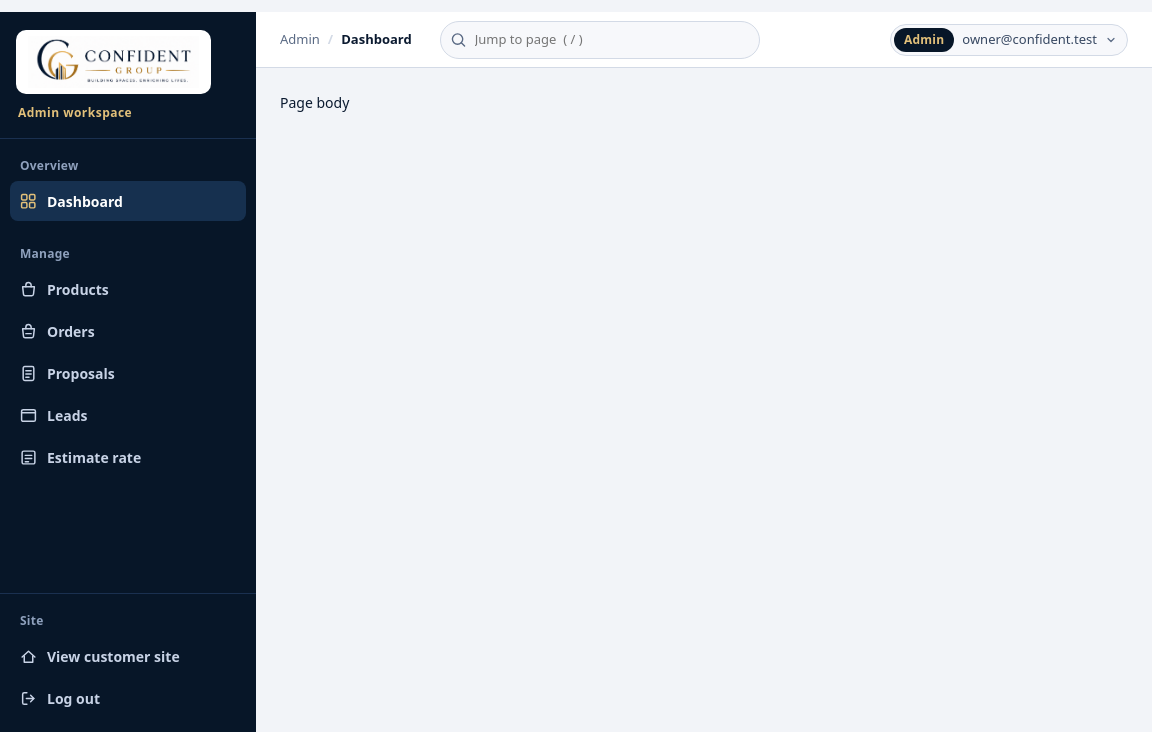
Scenario: AdminLayoutComponent › sidebar badges, user menu and jump search › closes the user menu on a click elsewhere
The image size is (1152, 732).
Click the button with class "admin-chip" at (1009, 40), box [890, 24, 1128, 56]
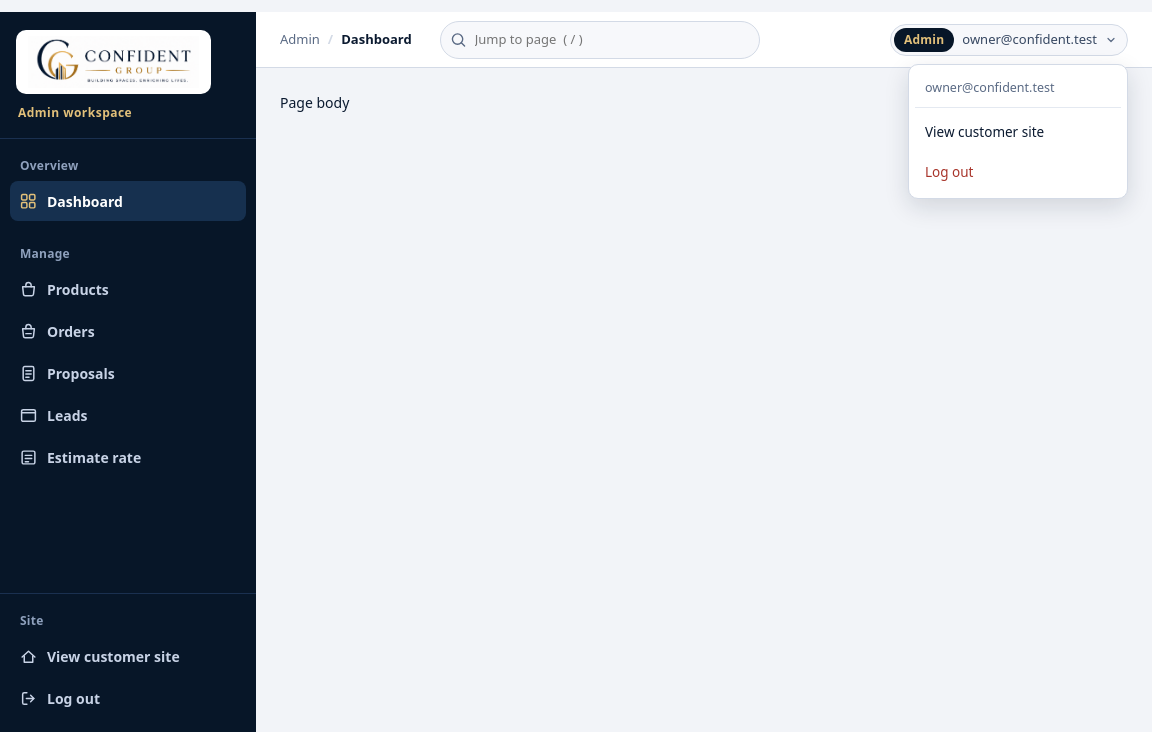
Click the element that starts with "Admin workspace" at (576, 372), box [0, 12, 1151, 731]
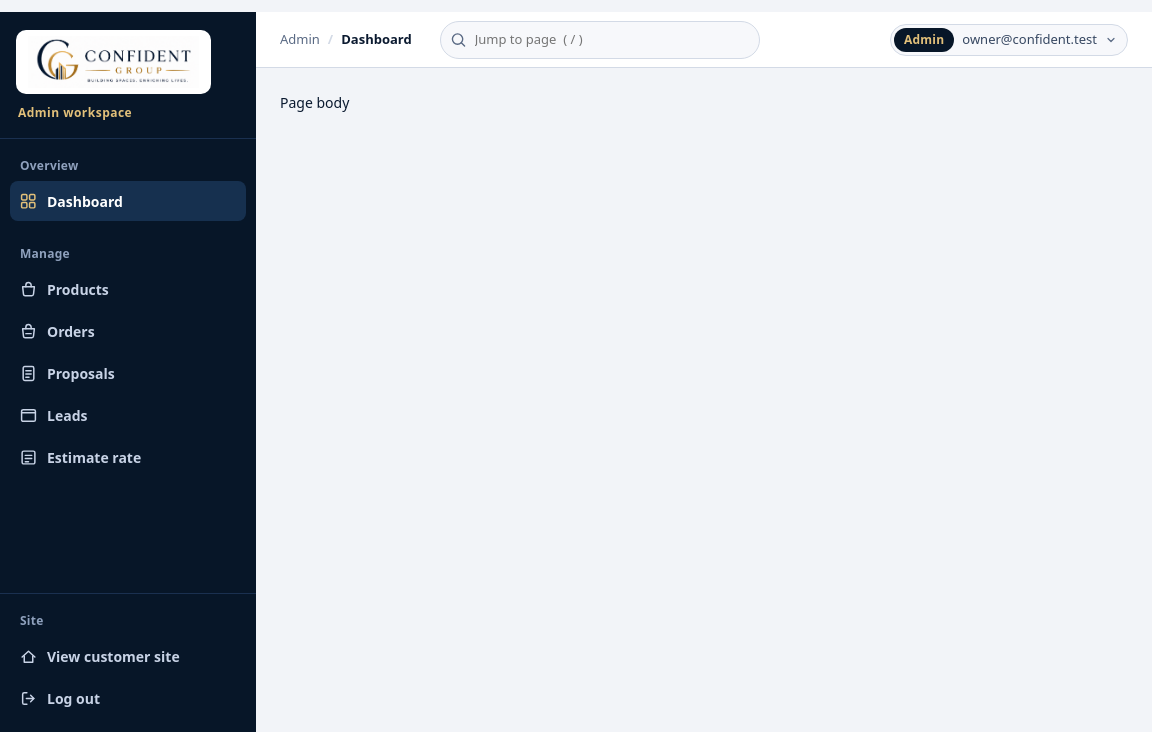
Expected: the element with class "admin-user-menu" is gone
